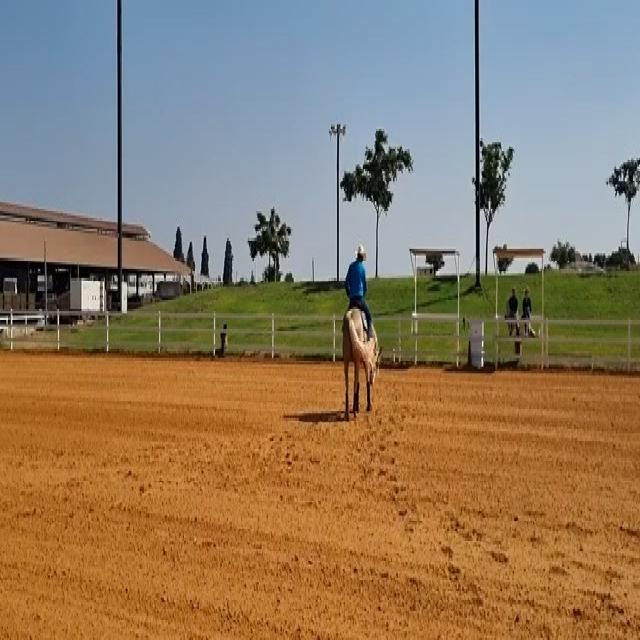horse: (339, 302, 380, 422)
